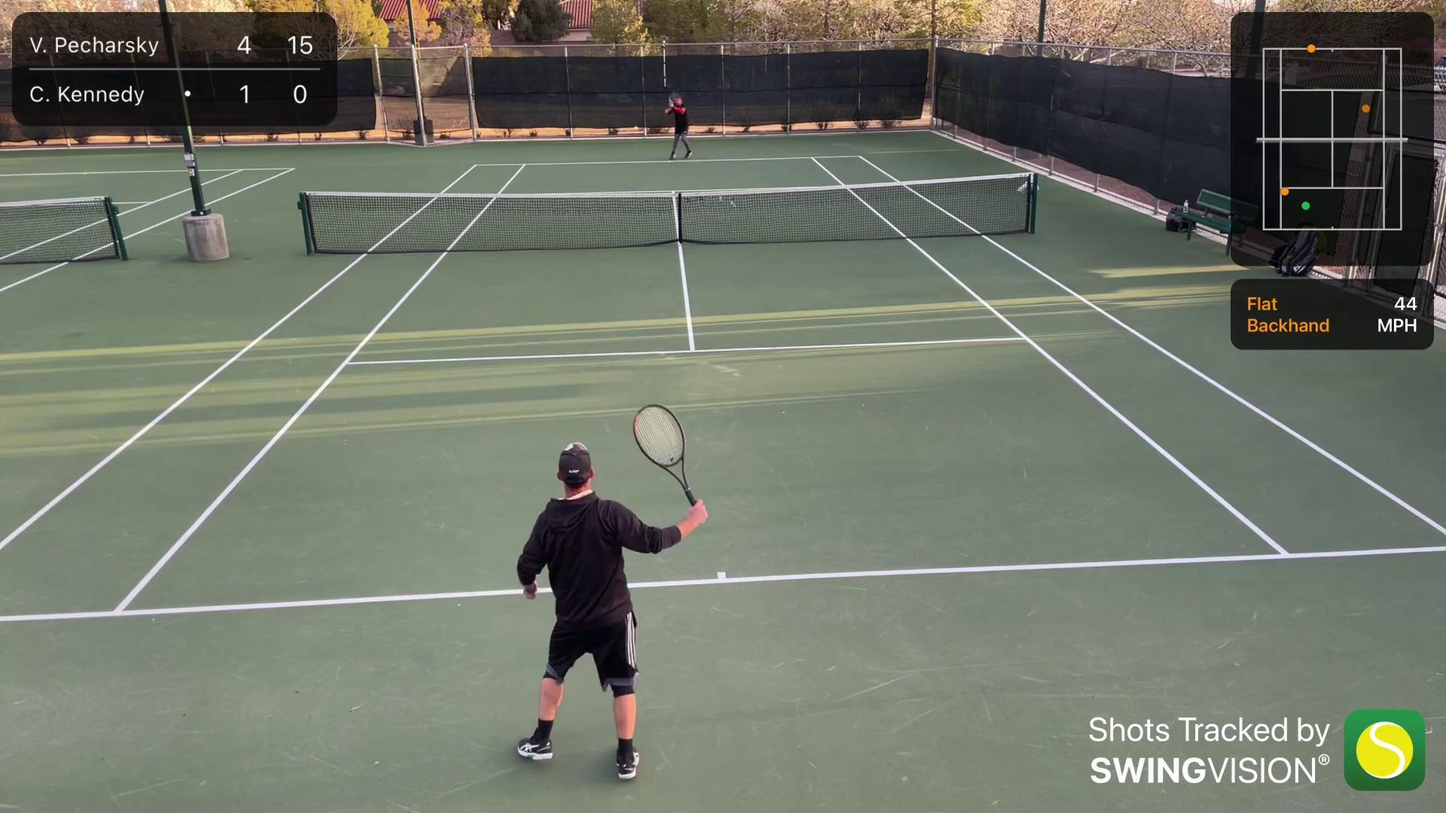ball: (633, 124, 639, 131)
